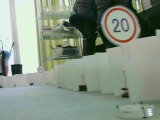speed_20: (98, 5, 142, 45)
